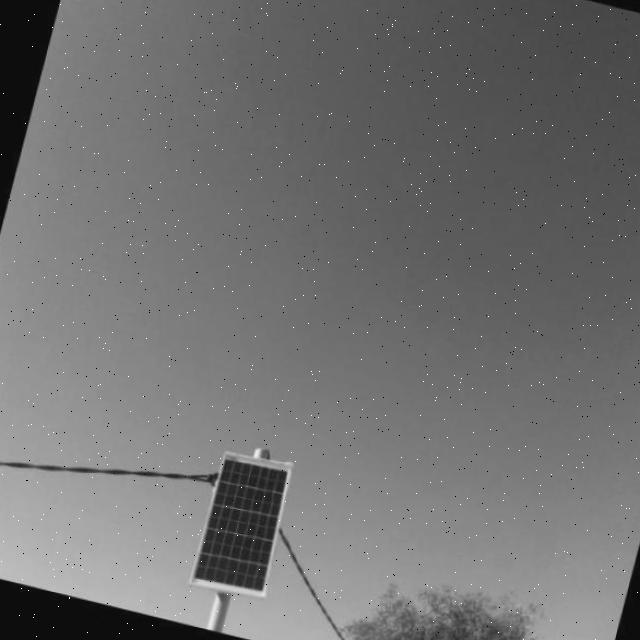Normal Solar Panel: (190, 449, 298, 605)
